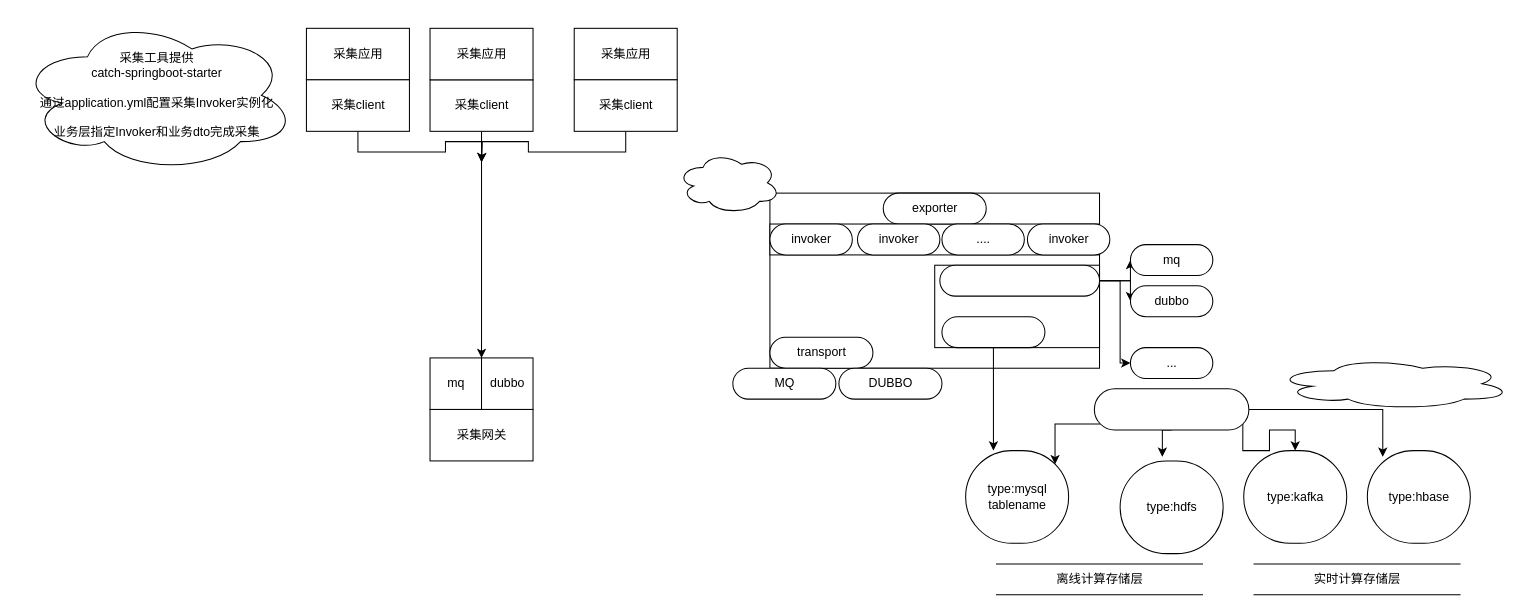
This 1530x613 diagram has some shape labels left out. The centre of each missing label's shape, as x and y in pixels:
"client" goes at point 728,182.
"field-column" goes at point 1171,409.
"invoker etl config" goes at point 993,332.
"invoker transport type config" goes at point 1019,280.
"字段类型约束大于配置 不做这层" goes at point 1393,383.
